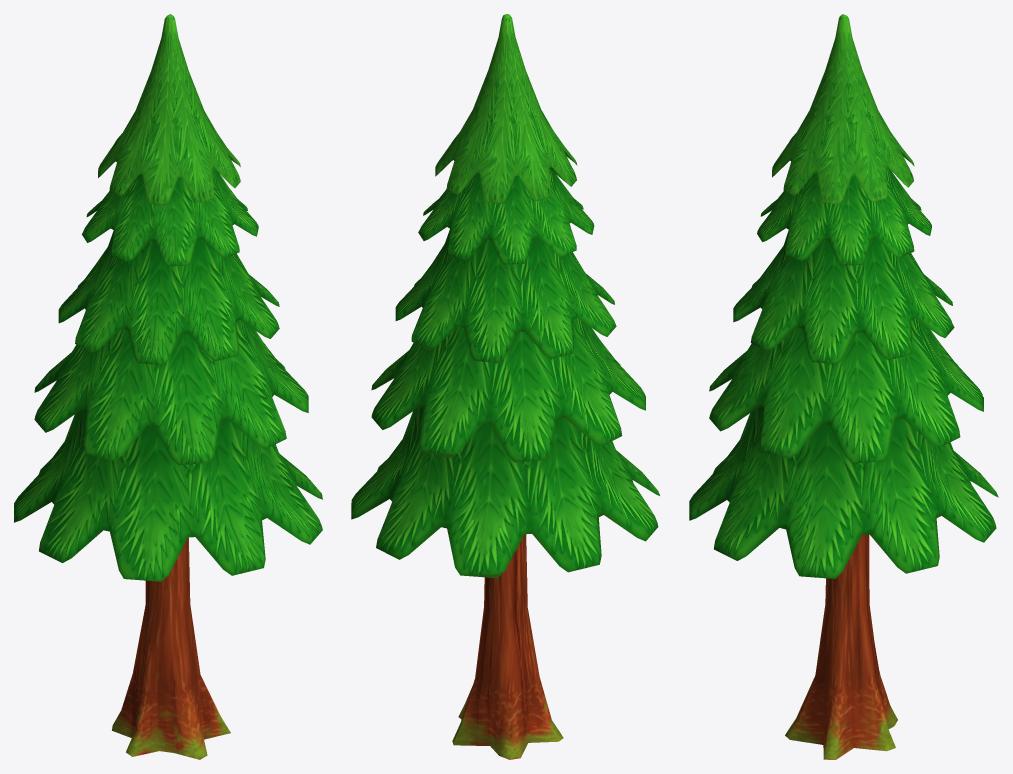
Rendered from Tree05_2.FBX.
The picture shows the model from 3 angles, left to right: view 1: azimuth 30°, elevation 25°; view 2: azimuth 150°, elevation 25°; view 3: azimuth 270°, elevation 25°; orthographic projection.
Parts seen in each view (by area): view 1: Tree05_2; view 2: Tree05_2; view 3: Tree05_2.
Boxes of the visible parts, x1=… form: Tree05_2: x1=14, y1=14, x2=322, y2=759; Tree05_2: x1=351, y1=14, x2=659, y2=759; Tree05_2: x1=689, y1=14, x2=998, y2=759.
Size of what is drawn, in the model's own units: 2.5 by 6.37 by 2.48.
